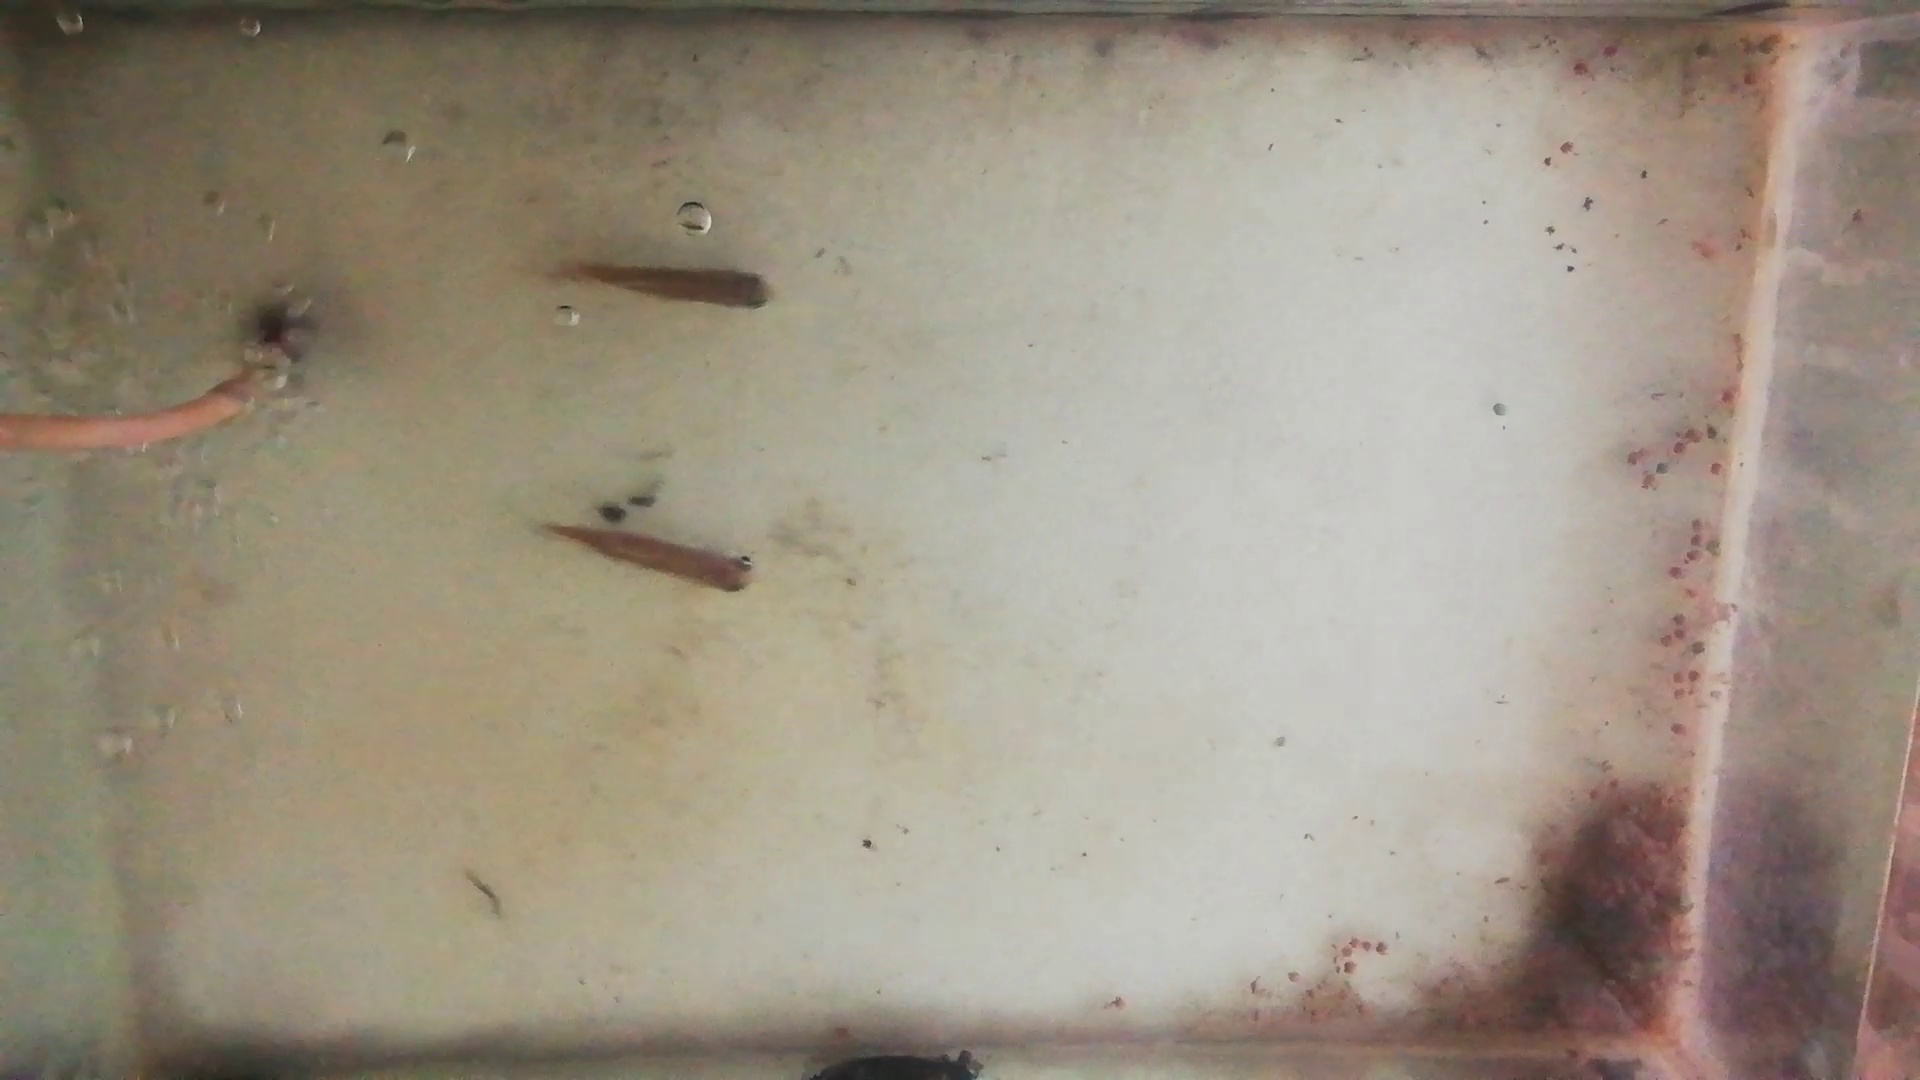fish: (541, 522, 758, 595), (560, 264, 777, 313)
